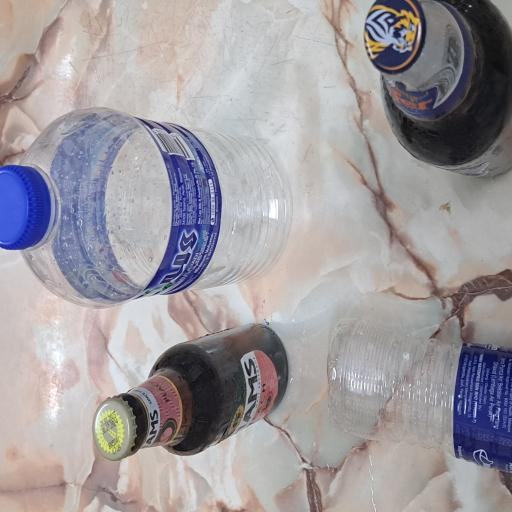glass bottle: (39, 119, 143, 385)
plastic bottle: (153, 0, 307, 390), (33, 433, 147, 512)
plastic bottle cap: (196, 0, 260, 70)
